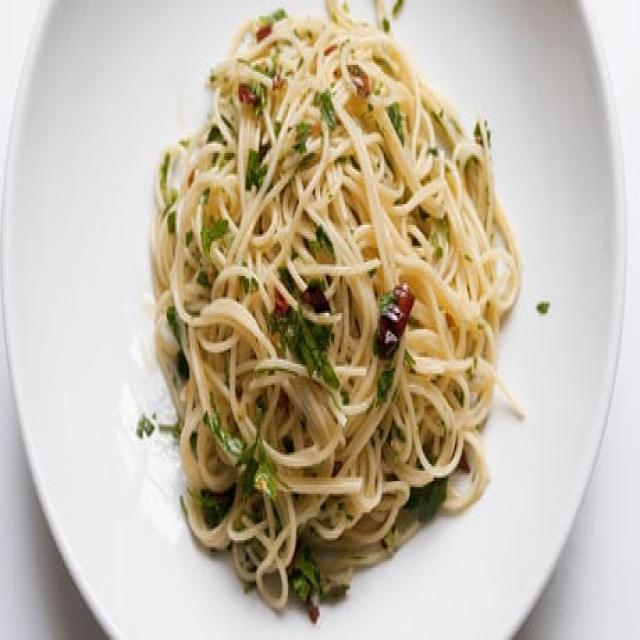Oil pasta: (143, 19, 505, 555)
